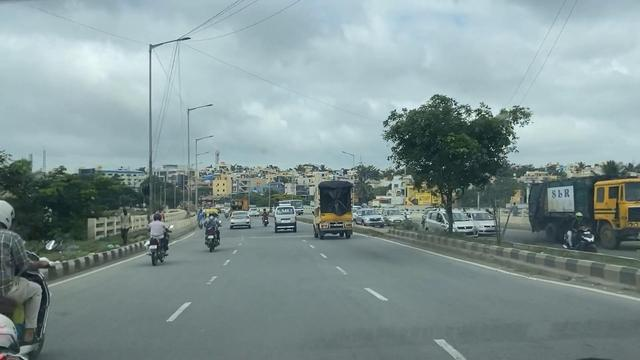HMV: (313, 167, 367, 245)
LMV: (142, 206, 178, 275), (201, 206, 226, 251)
